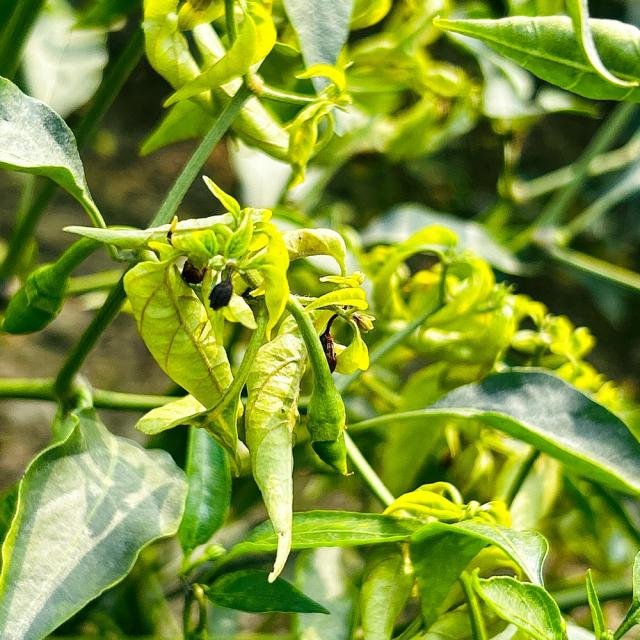Chilli_Leaf_Curl: (1, 0, 638, 638), (118, 174, 374, 582), (1, 381, 190, 638), (342, 366, 638, 498), (121, 252, 244, 473), (431, 2, 639, 104), (0, 74, 108, 227), (243, 332, 307, 583), (140, 0, 277, 108), (284, 292, 350, 475)
